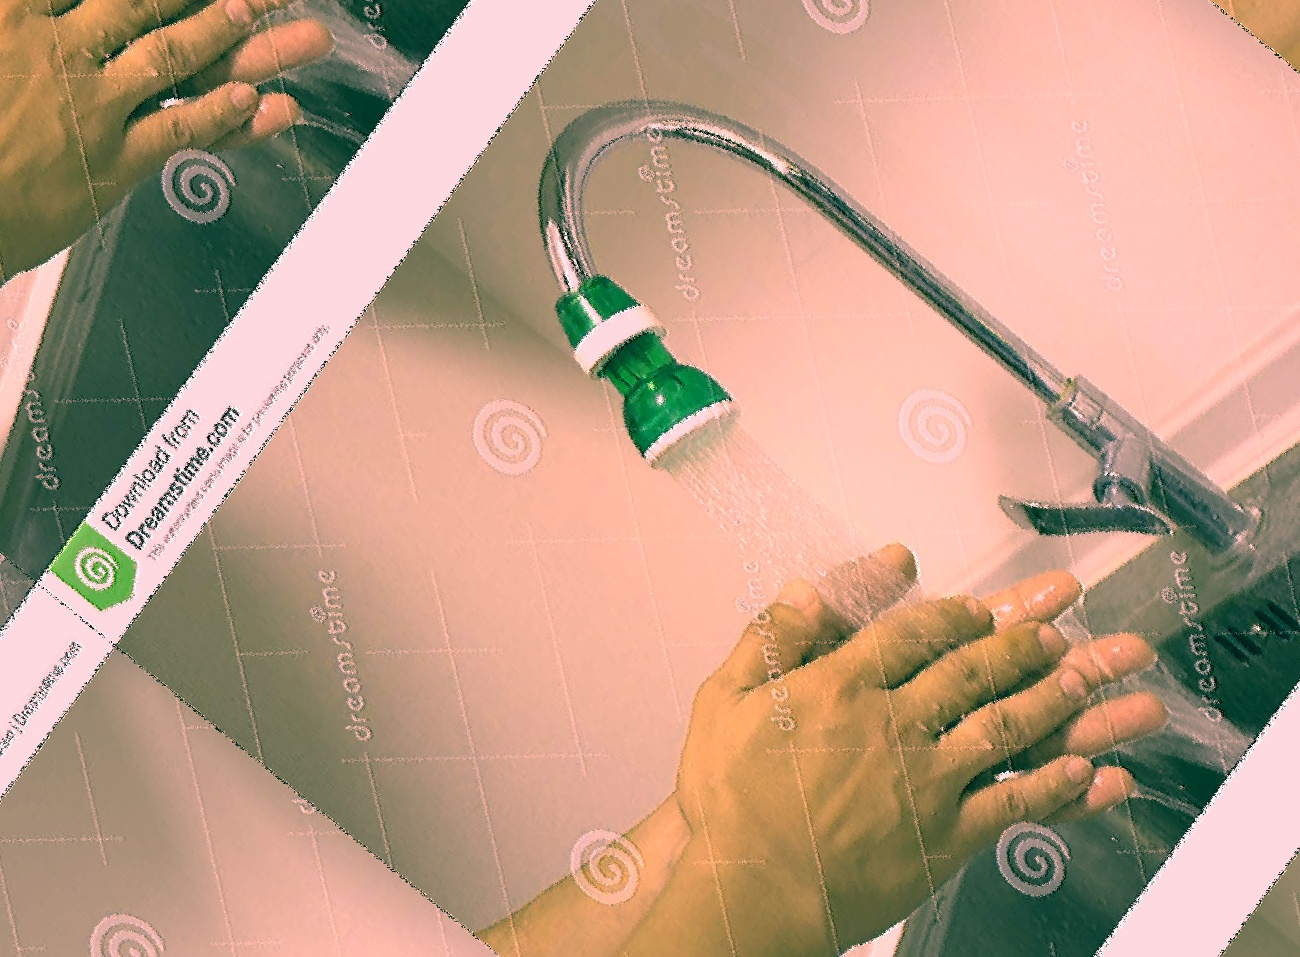washing hand: (318, 4, 1299, 956)
